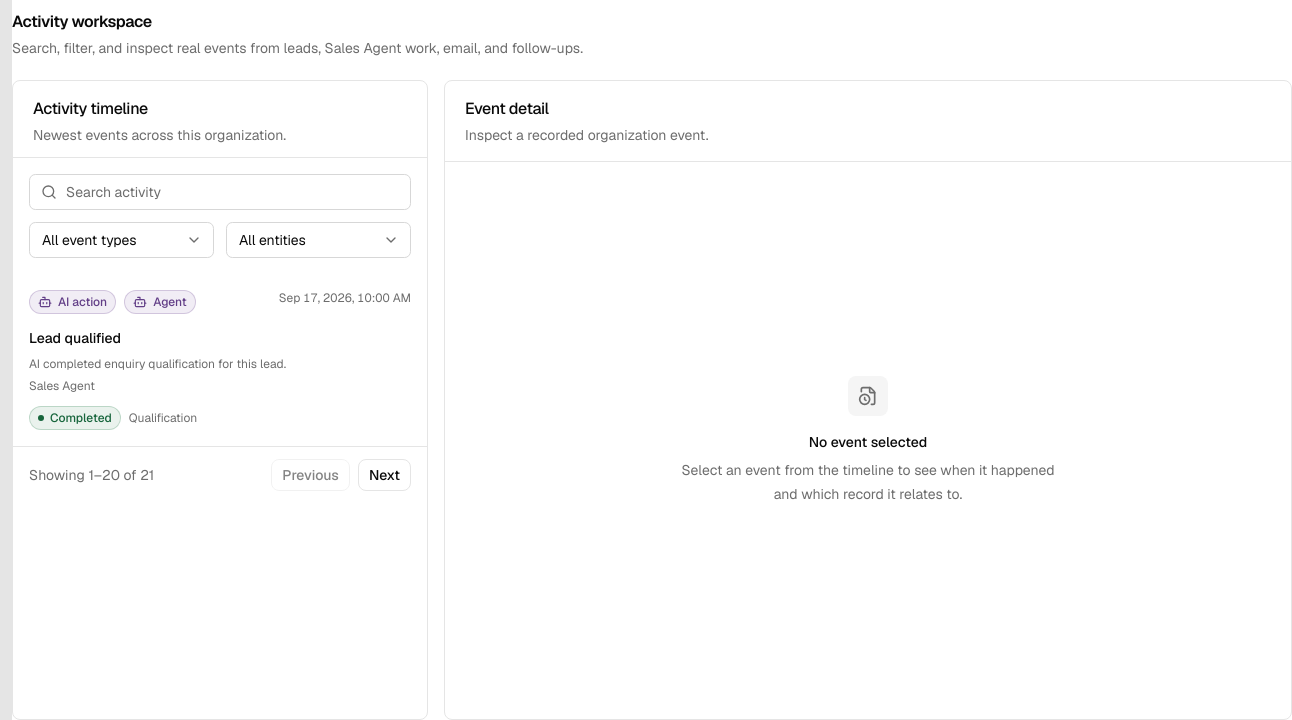
Test case: Activity page › clears selected detail when moving to another page
The width and height of the screenshot is (1292, 720).
(page scrolled)
Click the button "Lead qualified": (220, 360) [13,274,427,446]
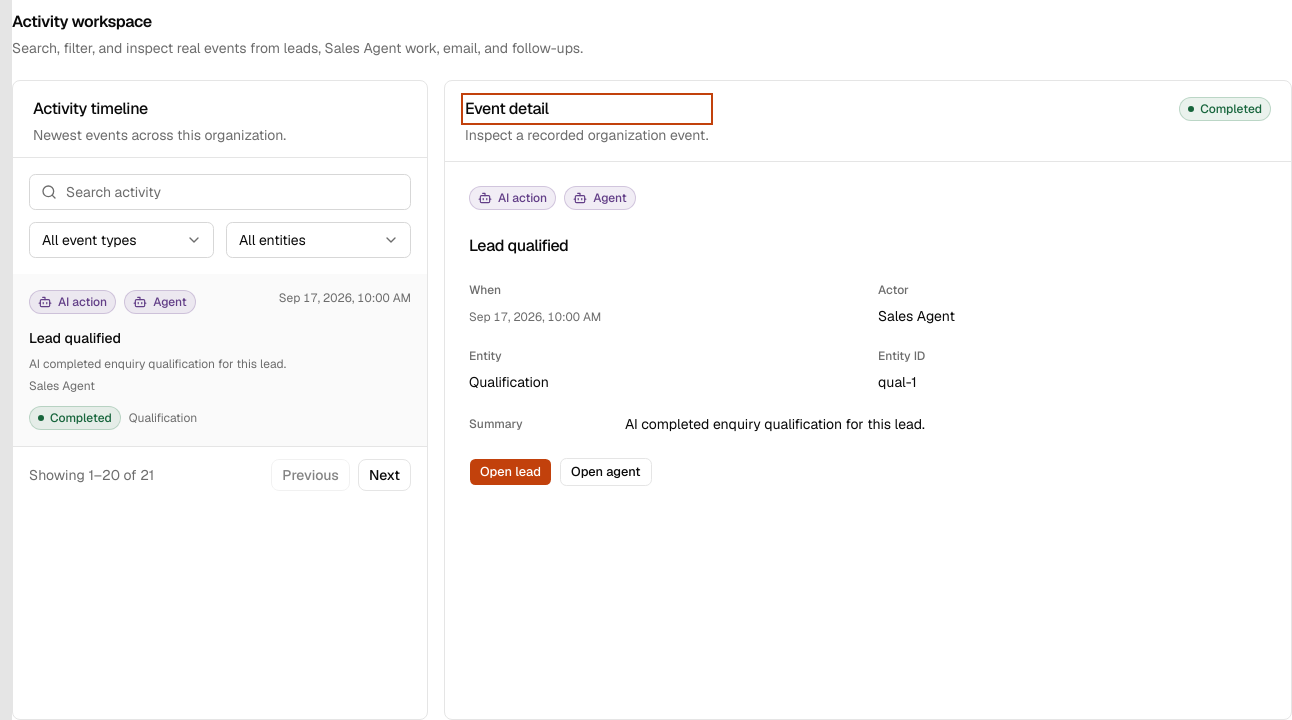
Expected: the link "Open lead" is shown, [469,458,552,486]
Click the button "Next": (384, 475) [358,459,411,491]
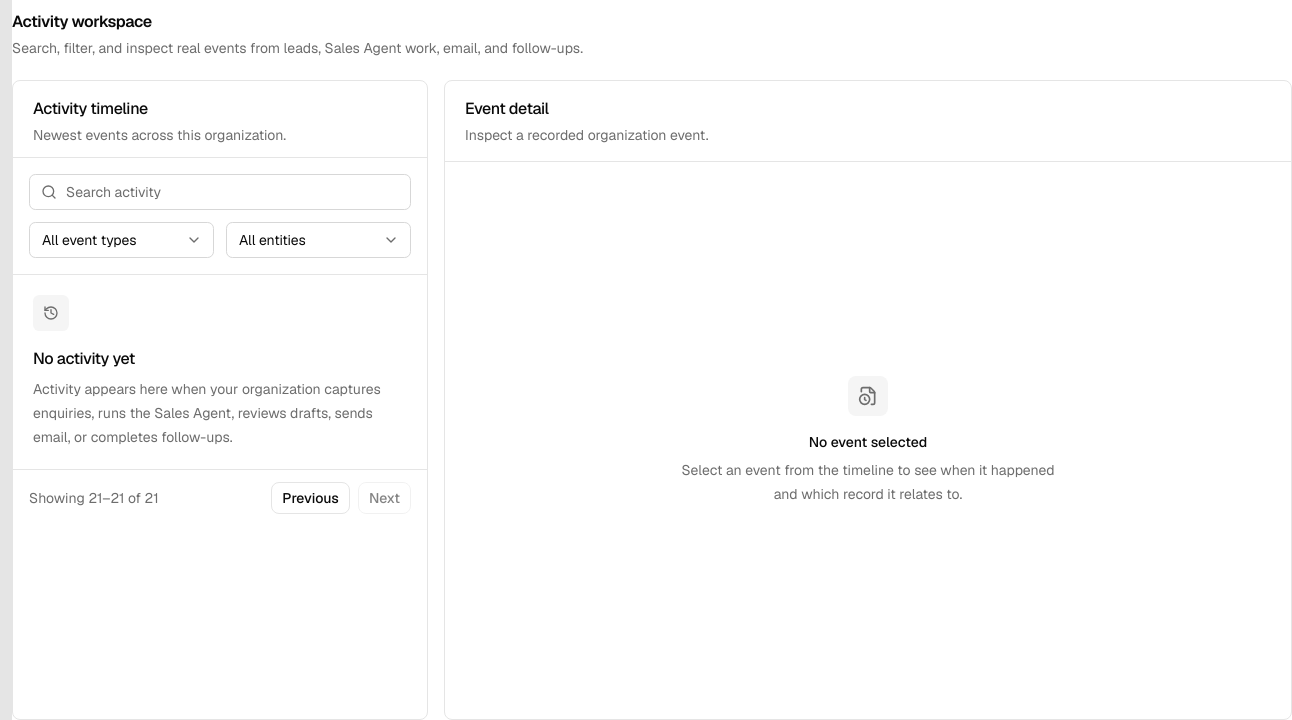
Expected: the link "Open lead" is gone
